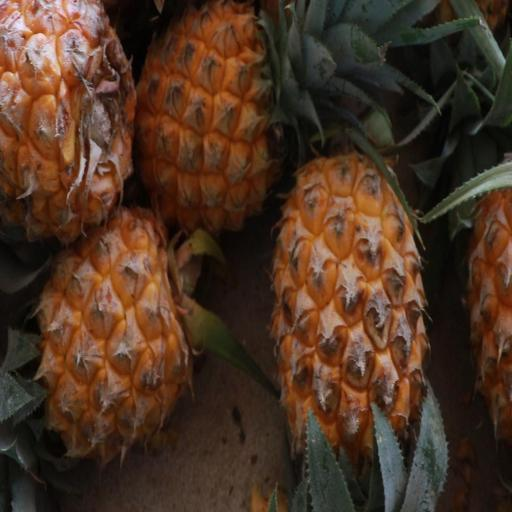Pineapple - v8 v1: (266, 143, 445, 512), (29, 194, 217, 468), (132, 0, 314, 241), (0, 0, 146, 250)
